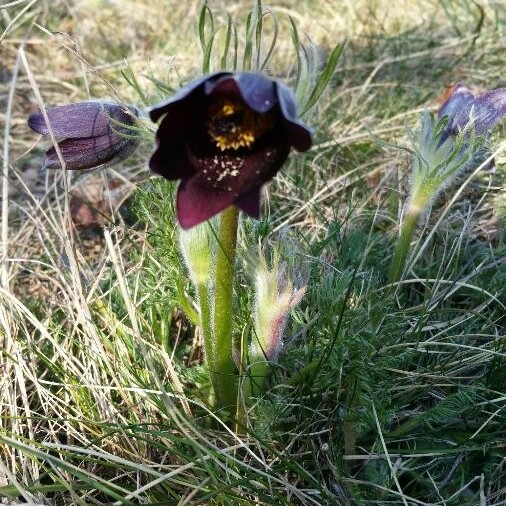obstacle: (144, 63, 278, 407), (382, 75, 484, 303)
